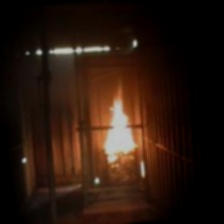fire: (94, 80, 138, 164)
